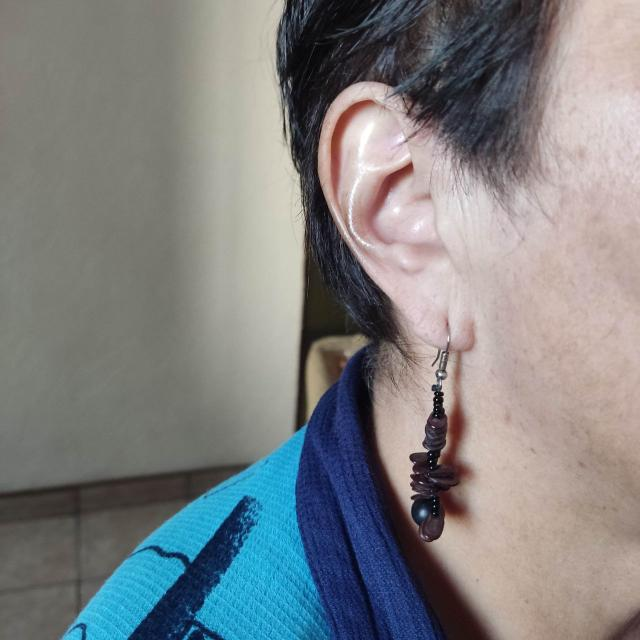ear: (320, 82, 475, 352)
